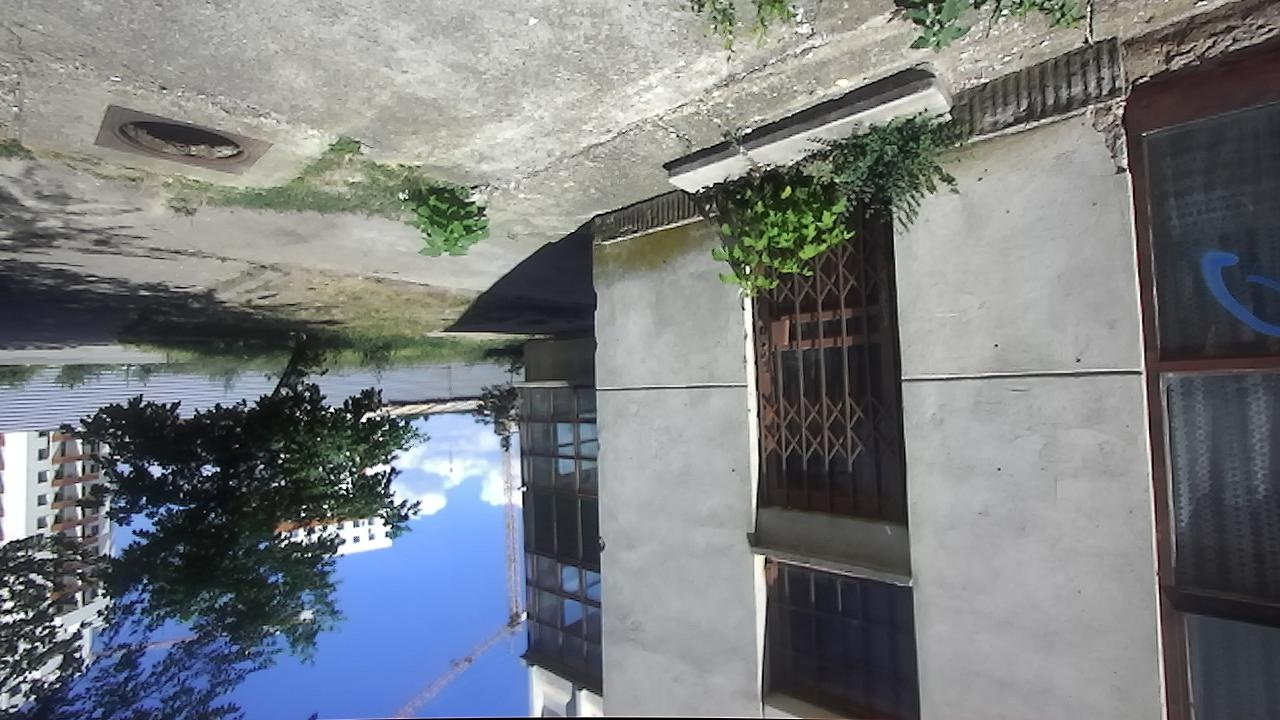drain: (116, 111, 255, 166)
